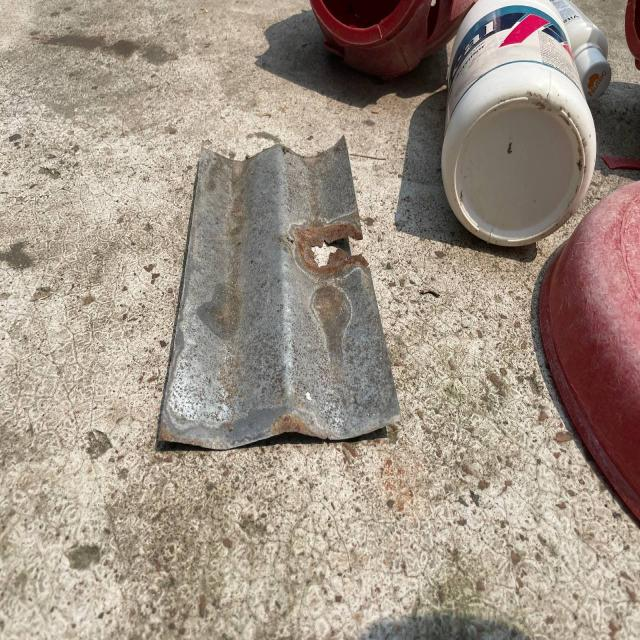Metal: (147, 117, 404, 483)
